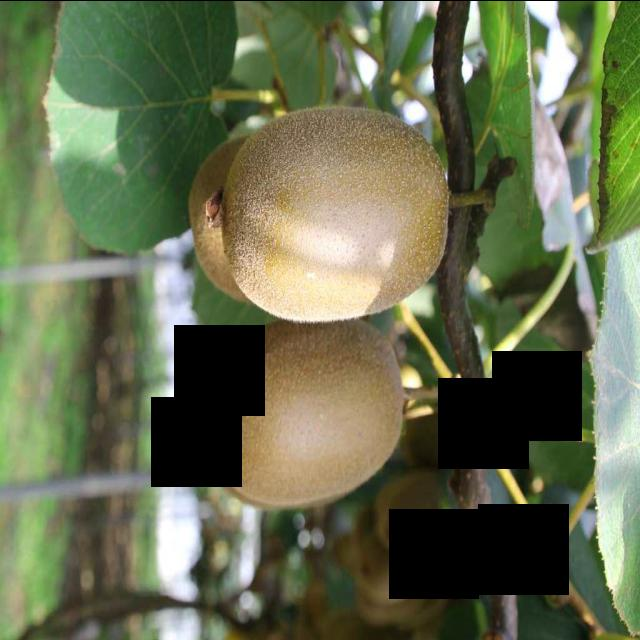kiwi: (223, 99, 455, 326), (204, 310, 414, 515), (187, 128, 260, 310), (380, 468, 460, 564), (354, 526, 440, 607)
